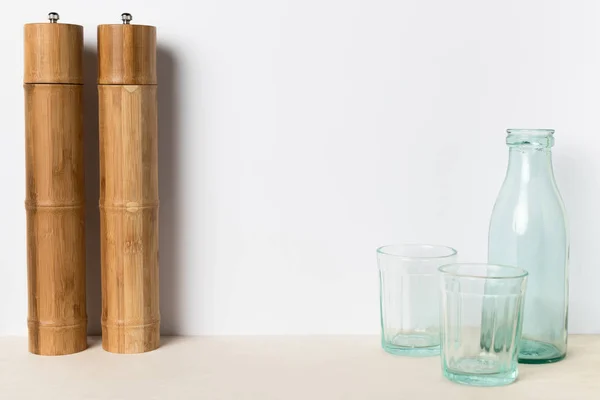glass_bottle: (473, 117, 576, 367)
